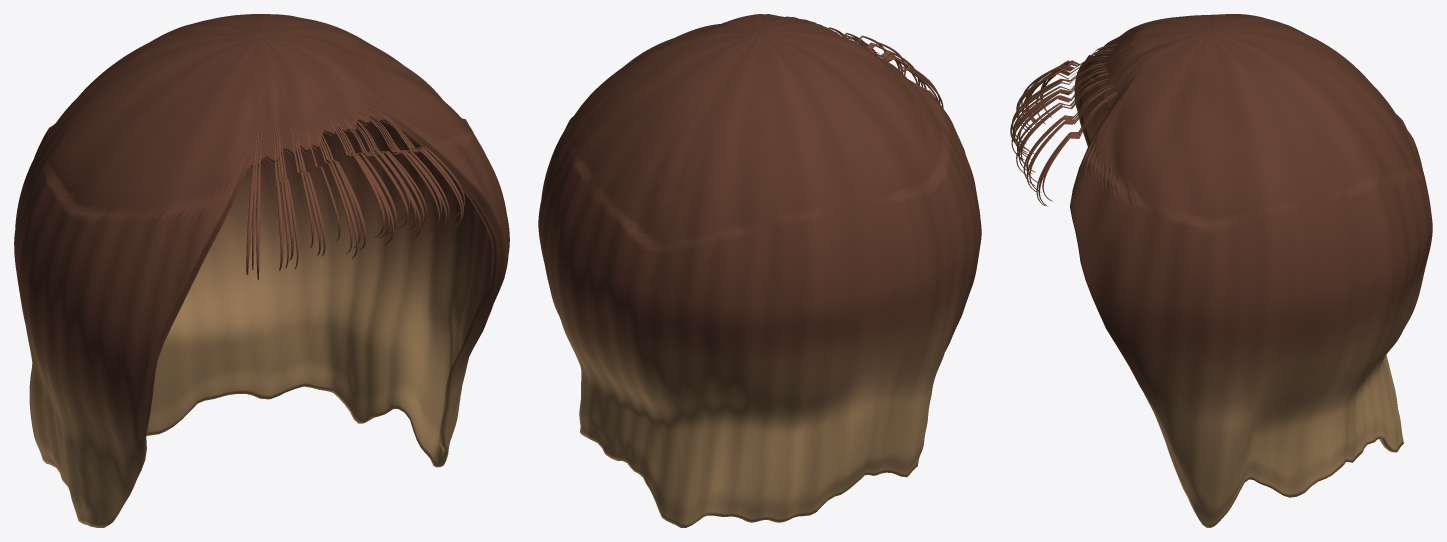
The model's file is side-sweep-headband-ombre.glb.
3 renders of one model, left to right at view 1: azimuth 30°, elevation 25°; view 2: azimuth 150°, elevation 25°; view 3: azimuth 270°, elevation 25°, orthographic. The views are drawn at different scales.
Visible parts, largest first — view 1: Hair / layered lob, Fringe / fine strands; view 2: Hair / layered lob, Fringe / fine strands; view 3: Hair / layered lob, Fringe / fine strands.
Part boxes in pixels (x1,y1,x2,y2): Hair / layered lob: [14, 14, 509, 527]; Fringe / fine strands: [246, 105, 464, 279]; Hair / layered lob: [538, 14, 981, 527]; Fringe / fine strands: [824, 26, 943, 108]; Hair / layered lob: [1070, 14, 1432, 527]; Fringe / fine strands: [1010, 44, 1117, 206].
Size of the model in its own units: 0.8388 by 0.8786 by 0.8009.
